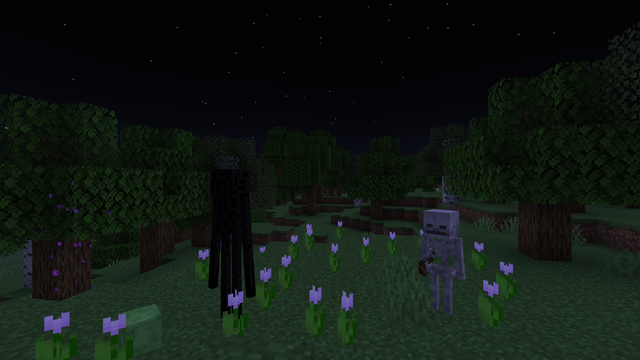endermens: (207, 164, 252, 328)
slimes: (109, 303, 166, 358)
squelettes: (422, 209, 462, 319)
